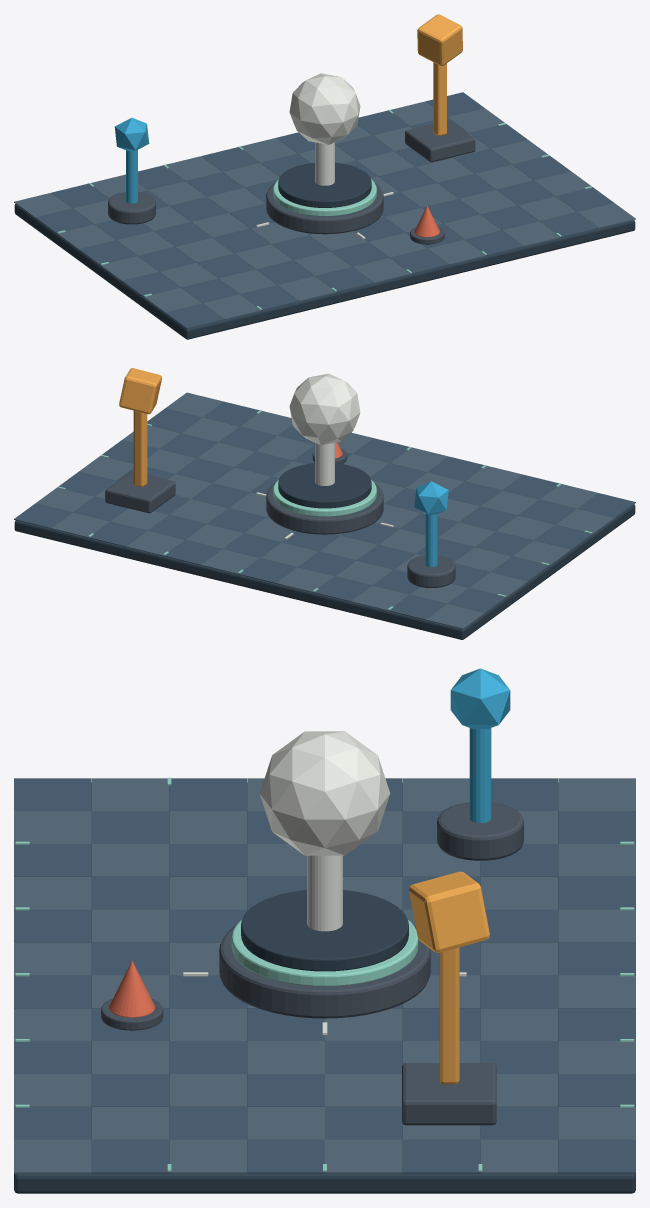
File: camera-blocking-stage.glb
The picture shows the model from 3 angles, top to bottom: view 1: azimuth 30°, elevation 25°; view 2: azimuth 150°, elevation 25°; view 3: azimuth 270°, elevation 25°; orthographic projection. The views are drawn at different scales.
Parts seen in each view (by area): view 1: Grid A | 48 half-meter tiles, Grid B | 48 half-meter tiles, Platform | 6 by 4 meters, Center target: faceted white sphere, Center target upper pedestal, Center target pedestal, Right pedestal, Right marker: tilted cube, Left pedestal, Center target ring, Right post, Left marker: octahedron (+3 smaller); view 2: Grid A | 48 half-meter tiles, Grid B | 48 half-meter tiles, Platform | 6 by 4 meters, Center target: faceted white sphere, Center target upper pedestal, Center target pedestal, Right pedestal, Right marker: tilted cube, Left pedestal, Center target ring, Right post, Left marker: octahedron (+2 smaller); view 3: Grid A | 48 half-meter tiles, Grid B | 48 half-meter tiles, Platform | 6 by 4 meters, Center target: faceted white sphere, Center target upper pedestal, Center target pedestal, Right pedestal, Right marker: tilted cube, Left pedestal, Center target ring, Left marker: octahedron, Right post (+4 smaller).
Boxes of the visible parts, box(x1,y1,x2,y2) form: Grid A | 48 half-meter tiles: box(14, 101, 635, 319); Grid B | 48 half-meter tiles: box(35, 92, 613, 328); Platform | 6 by 4 meters: box(14, 204, 635, 339); Center target: faceted white sphere: box(289, 73, 360, 144); Center target upper pedestal: box(278, 162, 371, 207); Center target pedestal: box(266, 182, 383, 234); Right pedestal: box(405, 120, 475, 162); Right marker: tilted cube: box(417, 14, 462, 65); Left pedestal: box(108, 192, 155, 224); Center target ring: box(273, 179, 376, 216); Right post: box(433, 62, 446, 136); Left marker: octahedron: box(114, 117, 149, 151); Grid A | 48 half-meter tiles: box(36, 392, 614, 629); Grid B | 48 half-meter tiles: box(14, 401, 635, 620); Platform | 6 by 4 meters: box(14, 504, 635, 639); Center target: faceted white sphere: box(289, 373, 360, 445); Center target upper pedestal: box(278, 463, 371, 508); Center target pedestal: box(266, 482, 383, 534); Right pedestal: box(105, 471, 175, 513); Right marker: tilted cube: box(119, 368, 161, 414); Left pedestal: box(407, 555, 455, 587); Center target ring: box(273, 479, 376, 516); Right post: box(133, 411, 147, 487); Left marker: octahedron: box(414, 481, 448, 515); Grid A | 48 half-meter tiles: box(14, 778, 635, 1173); Grid B | 48 half-meter tiles: box(14, 778, 635, 1173); Platform | 6 by 4 meters: box(14, 783, 635, 1193); Center target: faceted white sphere: box(259, 731, 390, 855); Center target upper pedestal: box(241, 890, 408, 971); Center target pedestal: box(219, 924, 430, 1018); Right pedestal: box(402, 1063, 496, 1125); Right marker: tilted cube: box(408, 871, 489, 952); Left pedestal: box(437, 802, 523, 860); Center target ring: box(231, 920, 418, 986); Left marker: octahedron: box(450, 668, 510, 729); Right post: box(439, 947, 459, 1084).
Bounding box in the file's own units: 6 × 1.87 × 4.
